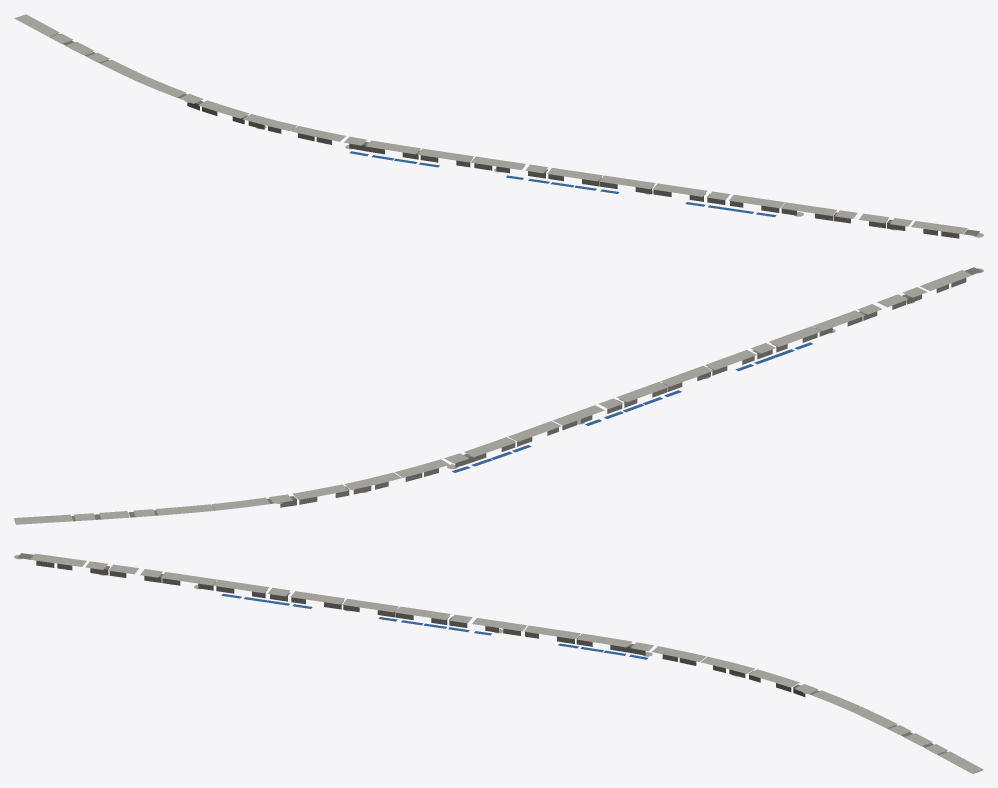
File: br_r9_menzies_lod3.gltf
3 views of the same model, one above another, from view 1: azimuth 90°, elevation 25°; view 2: azimuth 150°, elevation 25°; view 3: azimuth 270°, elevation 25° (orthographic). The views are drawn at different scales.
Parts seen in each view (by area): view 1: br_r9_menzies_lod3; view 2: br_r9_menzies_lod3; view 3: br_r9_menzies_lod3.
Boxes of the visible parts, <box> form: br_r9_menzies_lod3: <box>14,14,983,238</box>; br_r9_menzies_lod3: <box>14,267,983,524</box>; br_r9_menzies_lod3: <box>14,553,983,773</box>.
Bounding box in the file's own units: 326 × 7.9 × 603.
